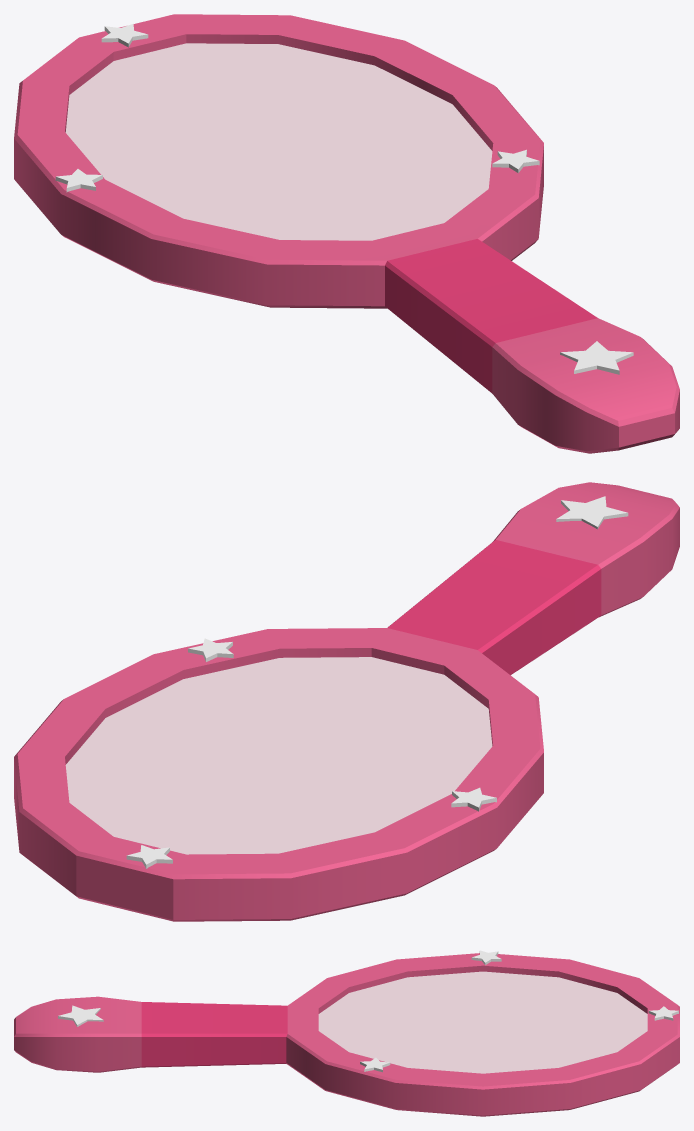
File: Hand_Mirror.fbx
3 renders of one model, top to bottom at view 1: azimuth 30°, elevation 25°; view 2: azimuth 150°, elevation 25°; view 3: azimuth 270°, elevation 25°, orthographic. The views are drawn at different scales.
Parts seen in each view (by area): view 1: Hand_Mirror; view 2: Hand_Mirror; view 3: Hand_Mirror.
Part boxes in pixels (bbox=[...]): Hand_Mirror: bbox=[14, 14, 679, 453]; Hand_Mirror: bbox=[14, 482, 679, 921]; Hand_Mirror: bbox=[14, 950, 679, 1116].
Size of the model in its own units: 19.83 by 2.76 by 41.14.
1 material, 1 textured.
